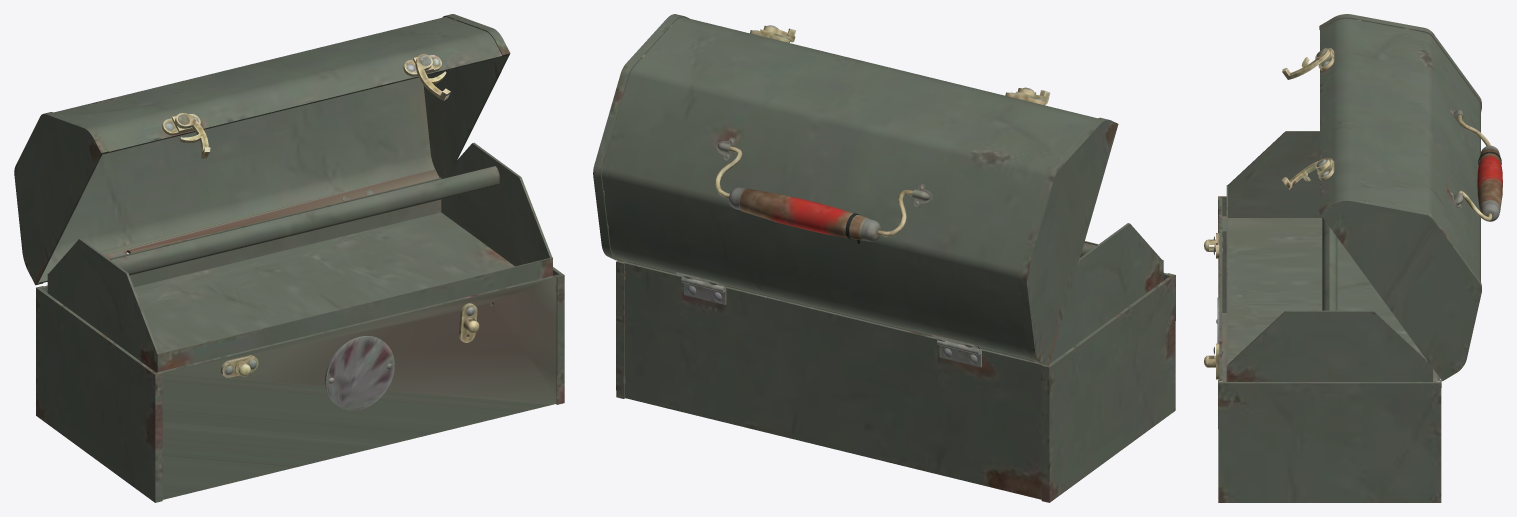
The model's file is metal-toolbox.glb.
3 renders of one model, left to right at view 1: azimuth 30°, elevation 25°; view 2: azimuth 150°, elevation 25°; view 3: azimuth 270°, elevation 25°, orthographic. The views are drawn at different scales.
Parts seen in each view (by area): view 1: metal_toolbox; view 2: metal_toolbox; view 3: metal_toolbox.
Part boxes in pixels (x1,y1,x2,y2): metal_toolbox: (14, 14, 564, 502); metal_toolbox: (593, 14, 1175, 502); metal_toolbox: (1204, 14, 1502, 502).
Bounding box in the file's own units: 0.4 × 0.3047 × 0.2705.
Materials: 1 (1 with a texture image).
